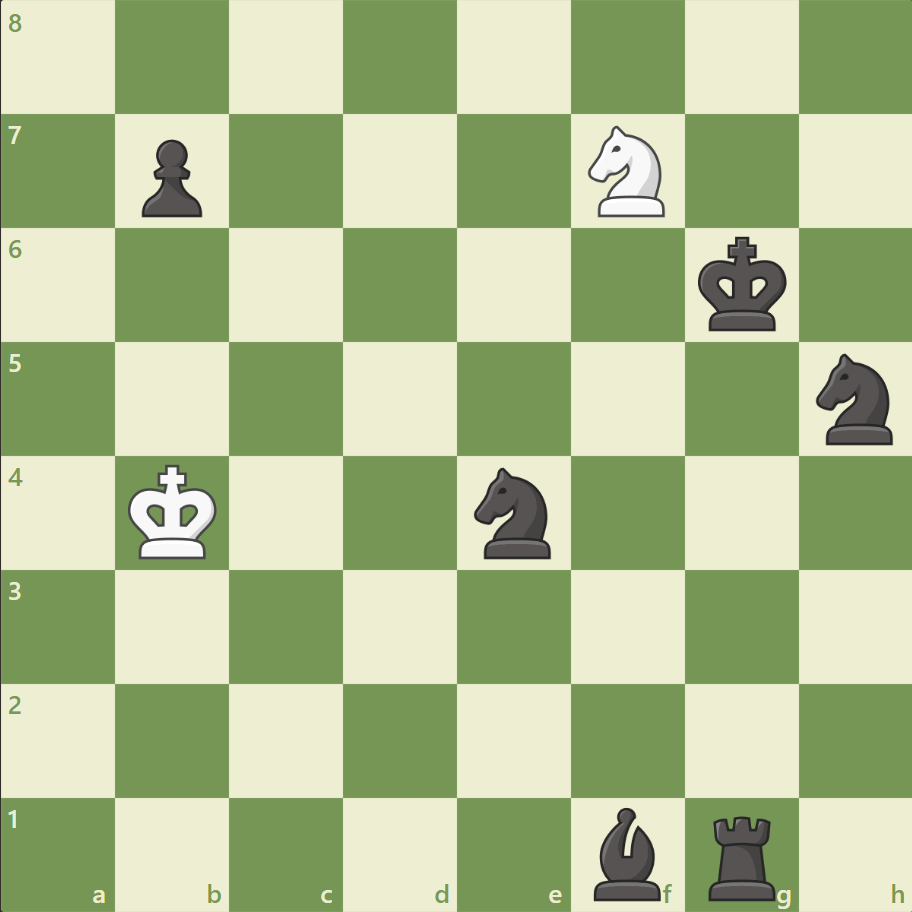K: (124, 458, 224, 566)
N: (579, 121, 676, 223)
b: (585, 801, 669, 904)
k: (692, 231, 792, 339)
n: (465, 461, 562, 564), (806, 348, 903, 450)
p: (133, 132, 208, 223)
r: (700, 806, 783, 904)
